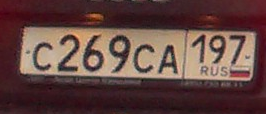character: (107, 35, 130, 74), (57, 34, 81, 71), (83, 34, 105, 71), (133, 43, 156, 75), (158, 43, 181, 74), (32, 39, 54, 70), (226, 35, 246, 65), (208, 34, 226, 64), (190, 33, 207, 64)
